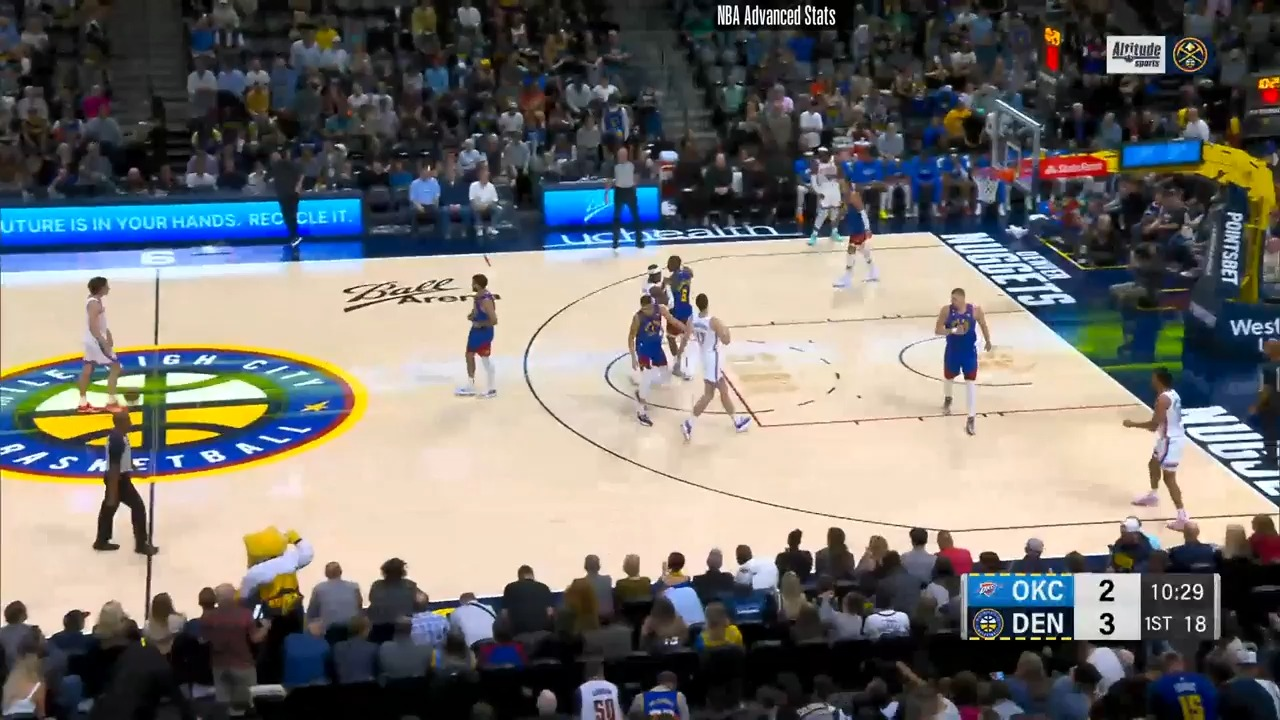net: (970, 163, 1016, 204)
player: (669, 294, 754, 446), (1124, 369, 1188, 532), (934, 286, 999, 439), (625, 291, 688, 428), (75, 272, 131, 415), (452, 274, 505, 409), (655, 253, 701, 392), (830, 174, 878, 293), (802, 143, 848, 248), (637, 258, 670, 312)
referee: (95, 404, 157, 562), (607, 143, 648, 257), (1250, 337, 1280, 476)
